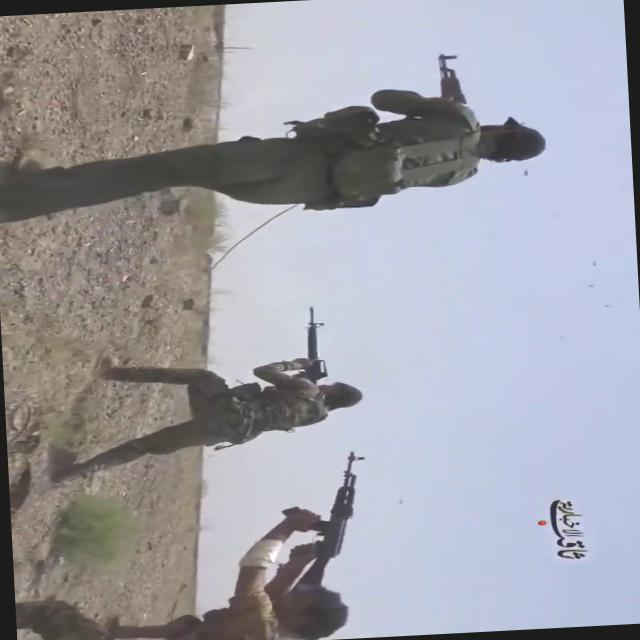long weapon: (268, 448, 372, 578), (284, 302, 334, 383), (424, 40, 474, 116)
